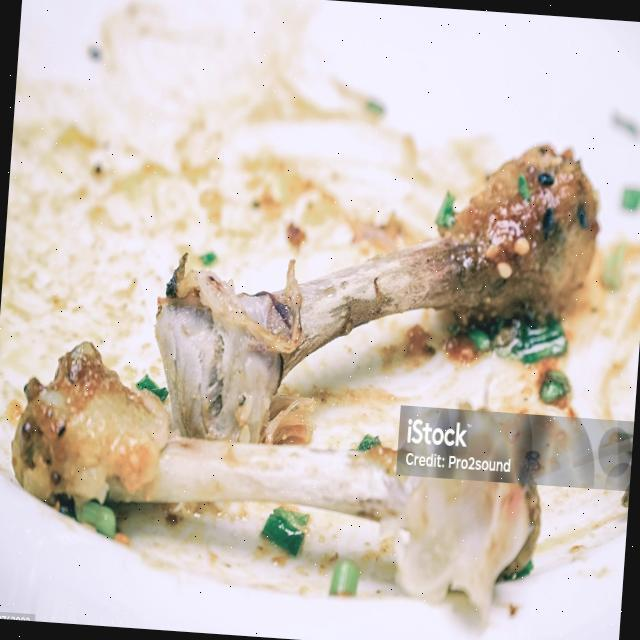Wet Waste: (164, 138, 589, 448), (26, 362, 532, 594)
